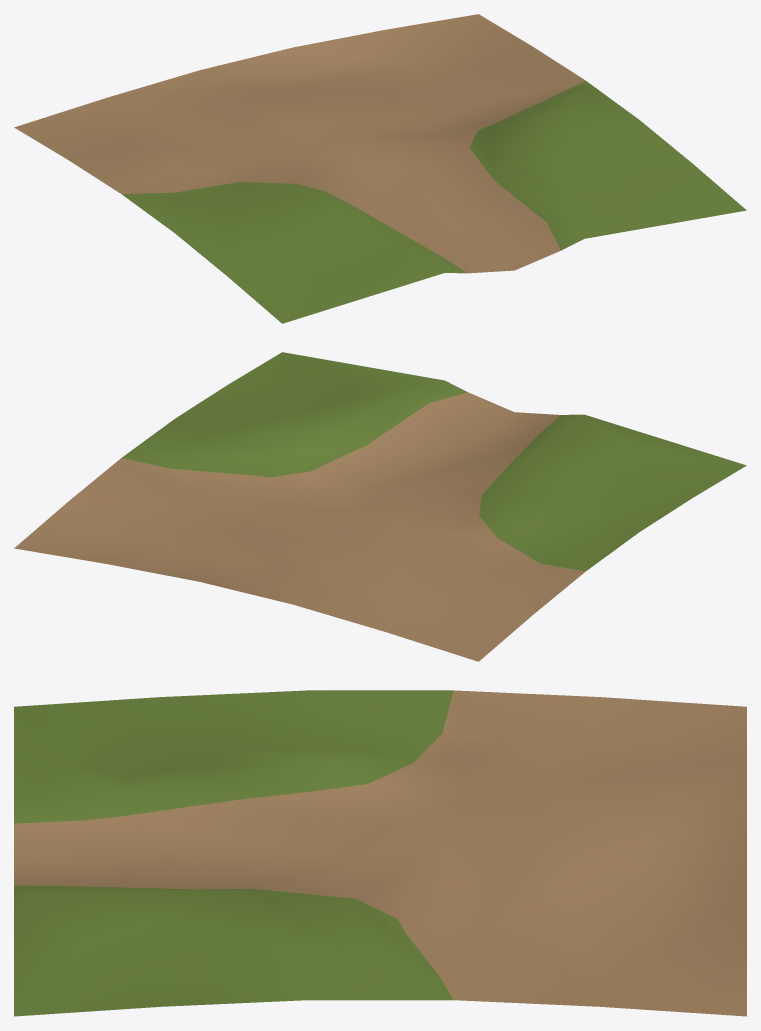
File: rpgpp_av_terrain_path_08_10x10m_soil_connection_a.gltf
3 views of the same model, one above another, from view 1: azimuth 30°, elevation 25°; view 2: azimuth 150°, elevation 25°; view 3: azimuth 270°, elevation 25° (orthographic). The views are drawn at different scales.
Visible parts, largest first — view 1: rpgpp_av_terrain_path_08_10x10m_soil_connection_a; view 2: rpgpp_av_terrain_path_08_10x10m_soil_connection_a; view 3: rpgpp_av_terrain_path_08_10x10m_soil_connection_a.
Boxes of the visible parts, x1,y1,x2,y2 form: rpgpp_av_terrain_path_08_10x10m_soil_connection_a: (14, 14, 746, 323); rpgpp_av_terrain_path_08_10x10m_soil_connection_a: (14, 352, 746, 661); rpgpp_av_terrain_path_08_10x10m_soil_connection_a: (14, 690, 746, 1016).
Size of the model in its own units: 0.1 by 0.00572 by 0.1.
1 material, 1 textured.
